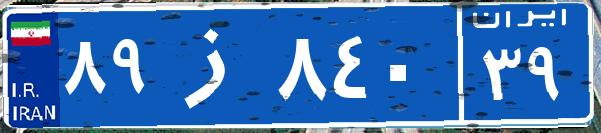0: (385, 28, 445, 110)
3: (475, 38, 525, 113)
4: (330, 28, 385, 110)
8: (273, 28, 330, 110), (57, 26, 110, 107)
9: (110, 28, 158, 105), (525, 38, 570, 115)
ز: (158, 15, 273, 115)
